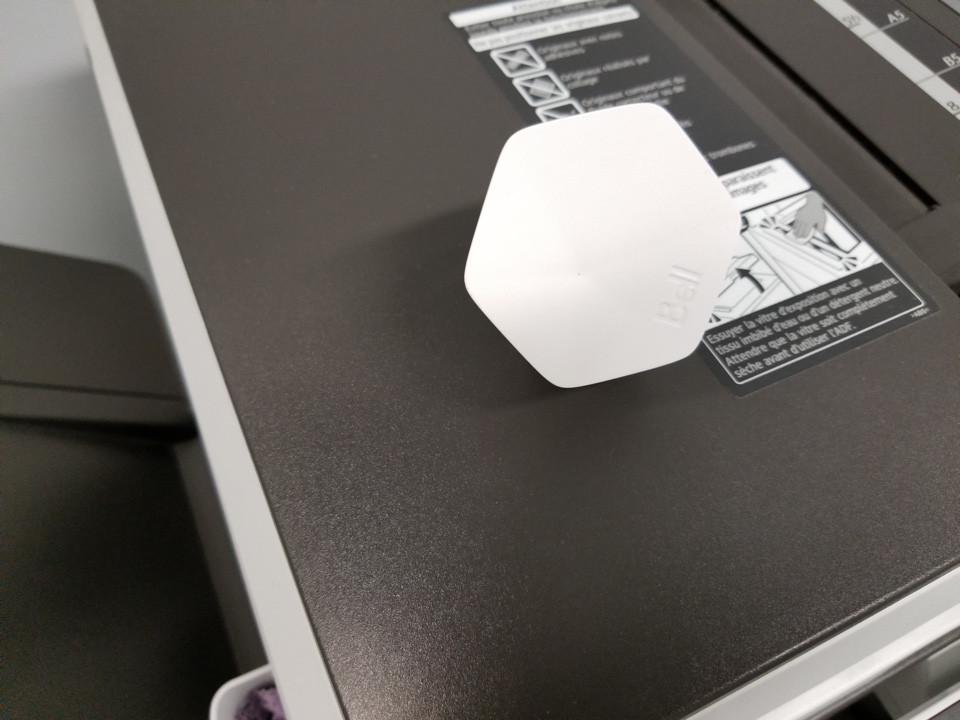pod: (456, 95, 743, 396)
